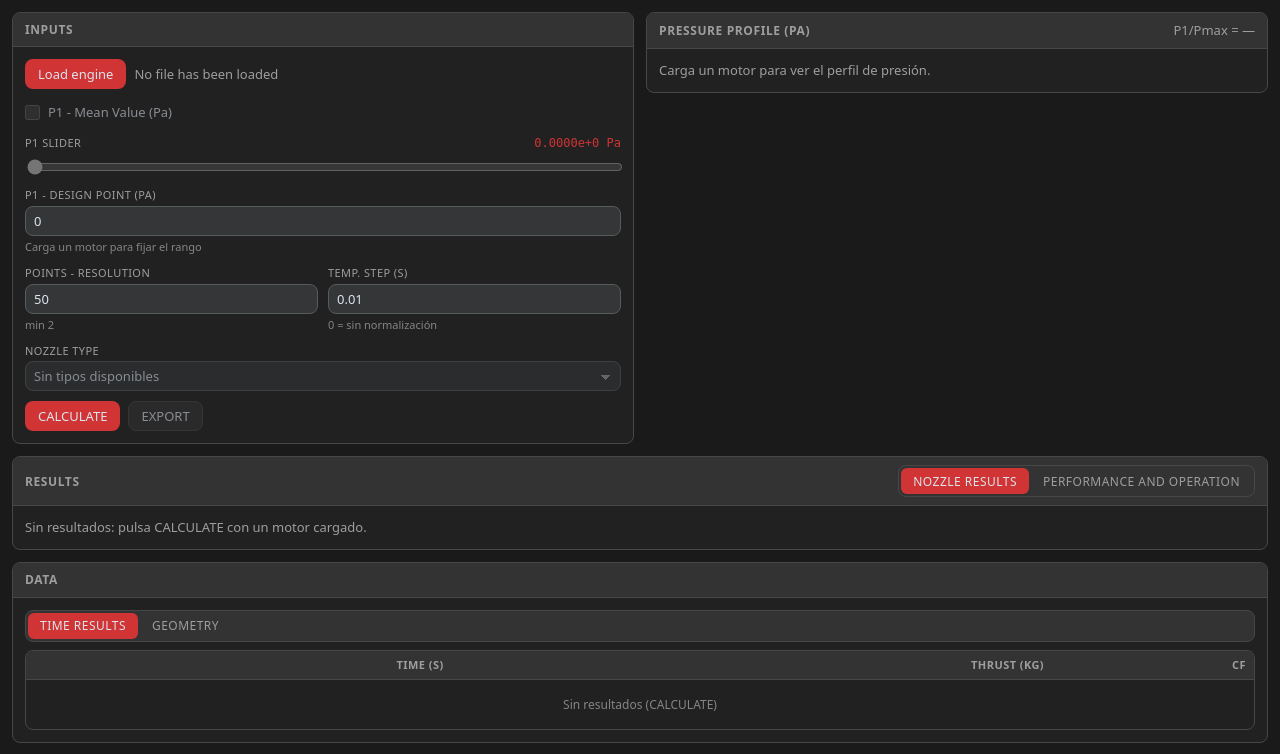
Test case: NozzleTab (T2) › nozzle.op_point (debounce) actualiza ratios y régimen (T2-7)
Click the button "Load engine". click: x=76, y=74
box: top-left (25, 59), bottom-right (126, 89)
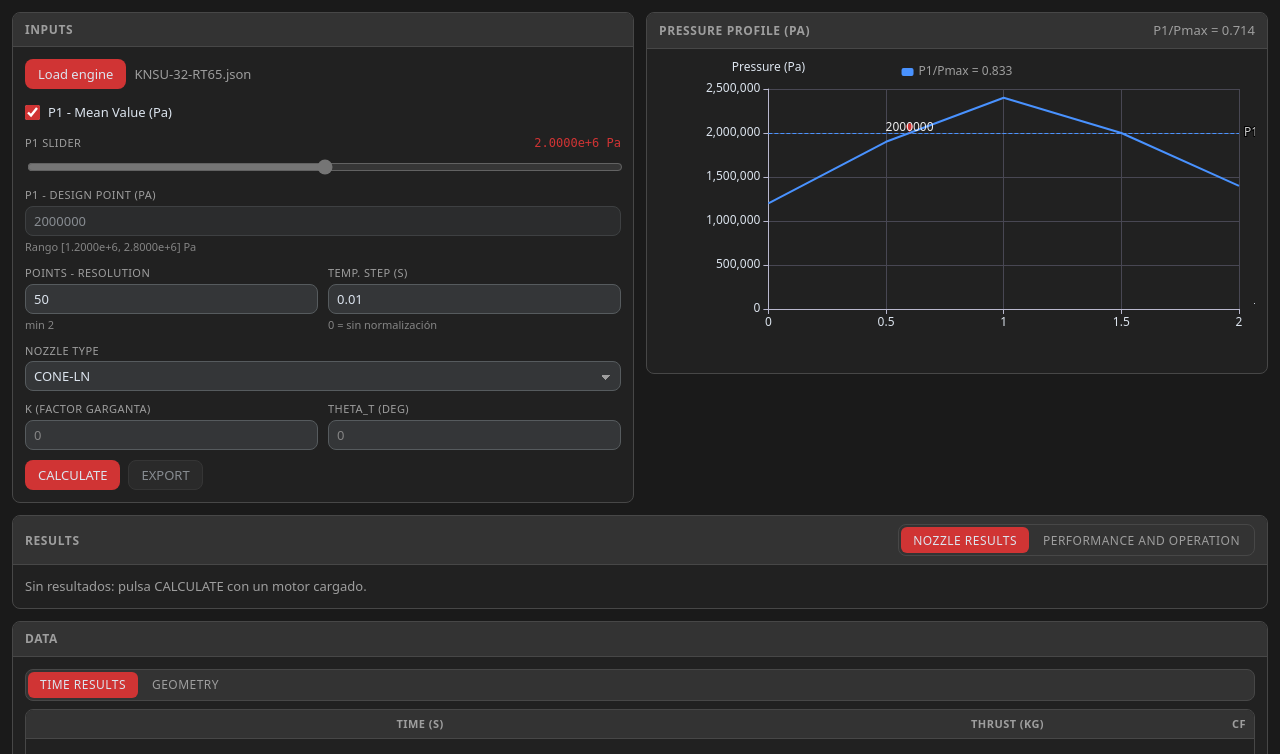
Check: the text with test id "nozzle-engine-label" reads "KNSU-32-RT65.json", box top-left (134, 65), bottom-right (251, 83)
Type "0.25" into the field labelled "K (Factor Garganta)". click: x=172, y=435
box: top-left (25, 420), bottom-right (318, 450)
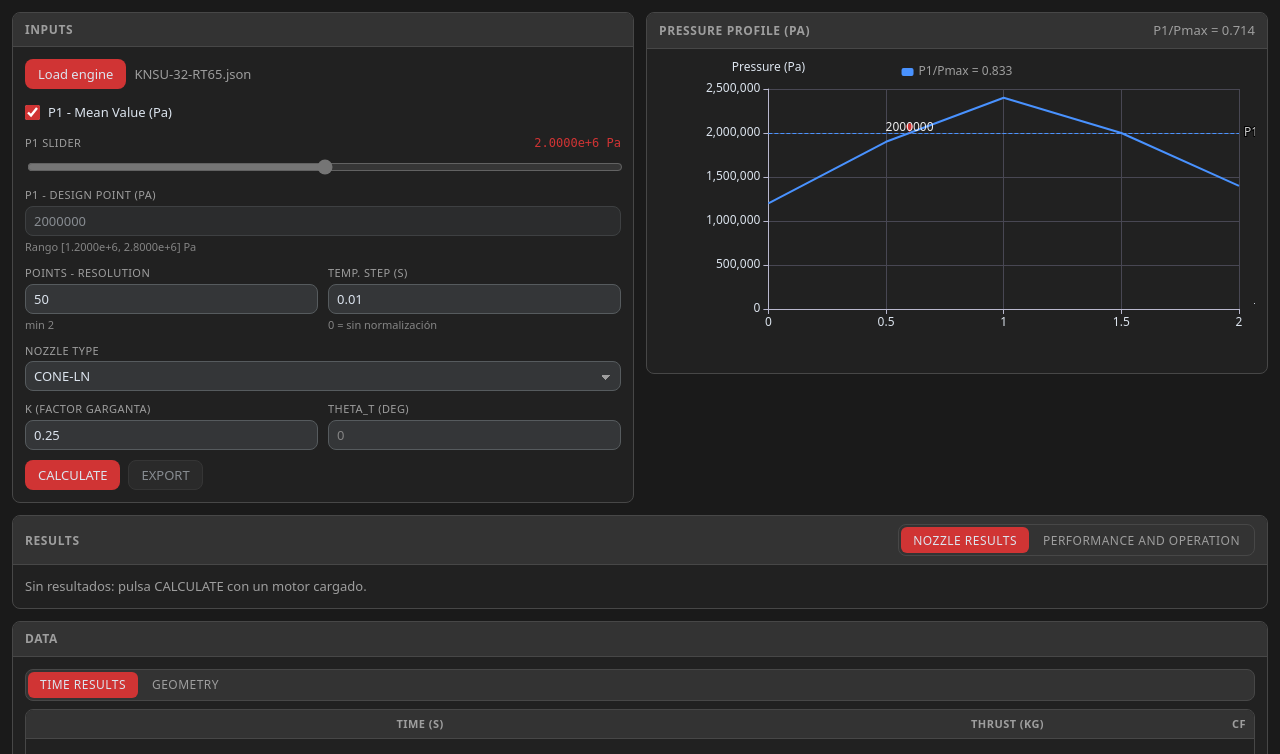
Type "15" into the field labelled "theta_t (deg)". click: x=474, y=435
box: top-left (328, 420), bottom-right (621, 450)
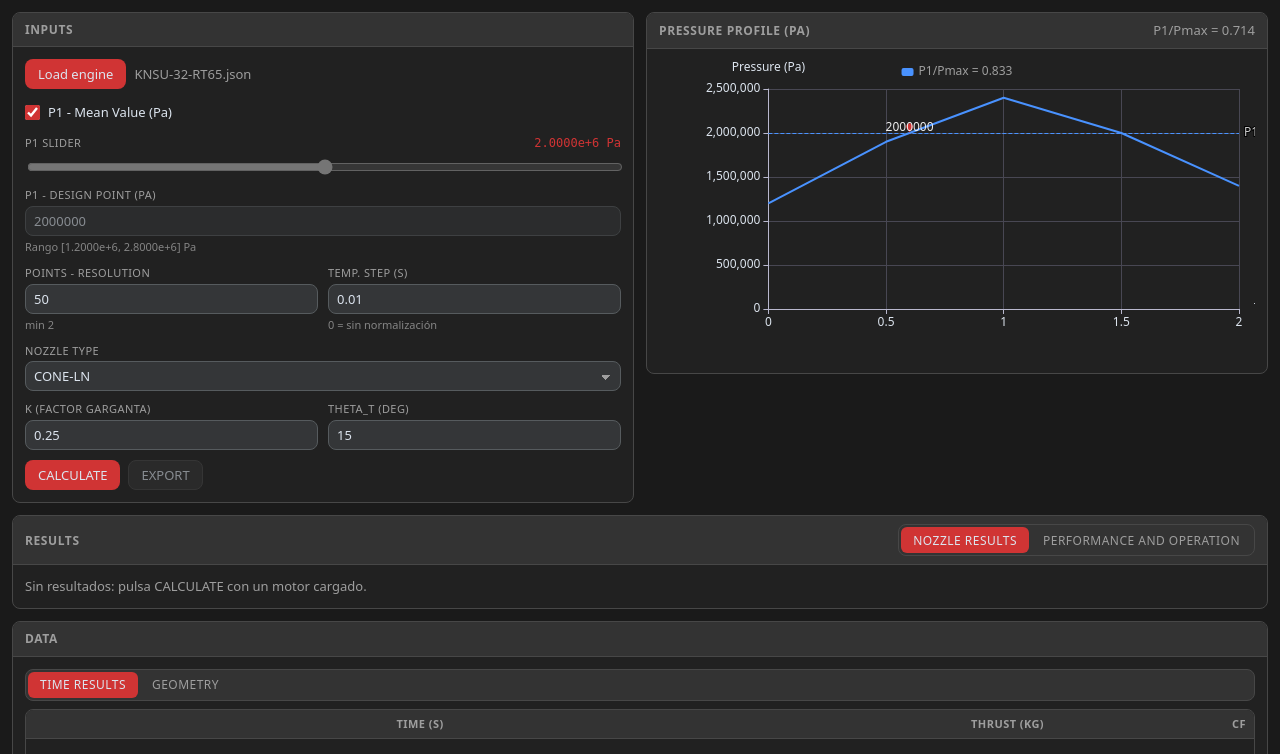
Click the tab "PERFORMANCE AND OPERATION". click: x=1142, y=540
box: top-left (1031, 527), bottom-right (1252, 553)
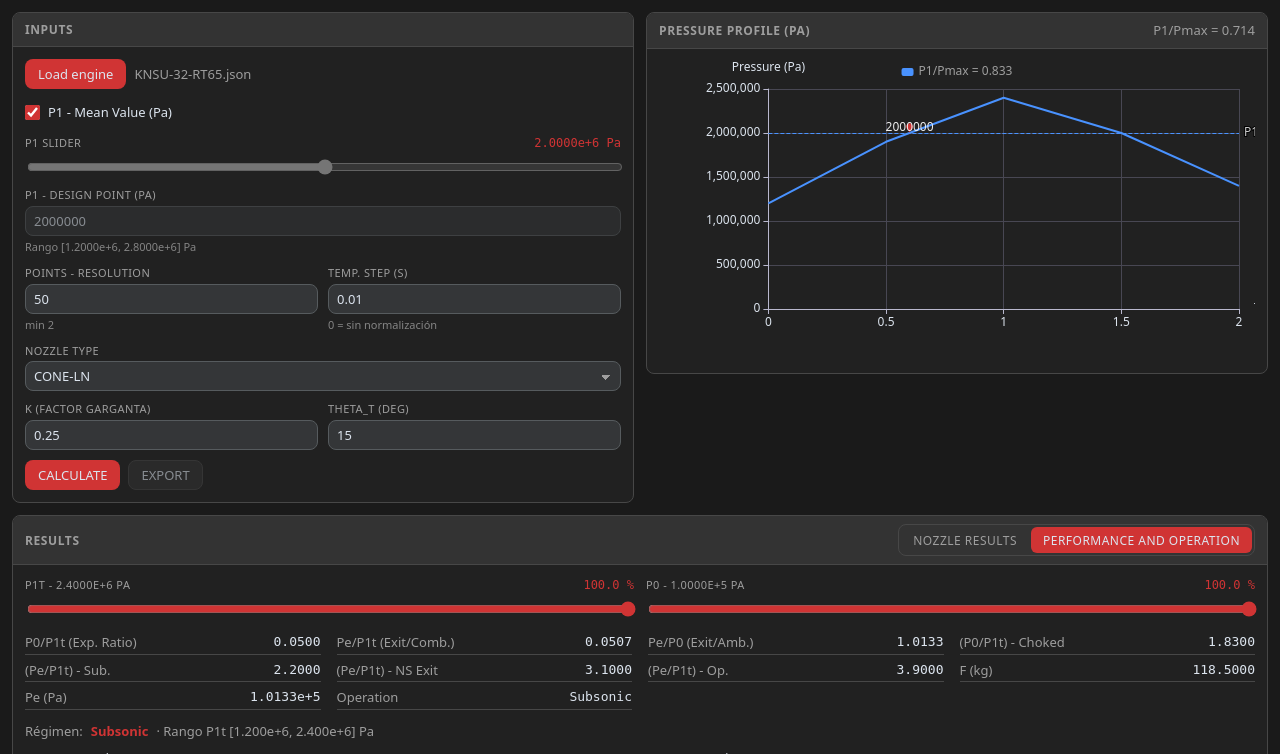
Check: the text with test id "nozzle-regime" reads "Subsonic", box top-left (91, 722), bottom-right (148, 740)
Set the slider labelled "P1t - 2.4000e+6 Pa" to "0.5". click: x=332, y=609
box: top-left (27, 601), bottom-right (636, 617)
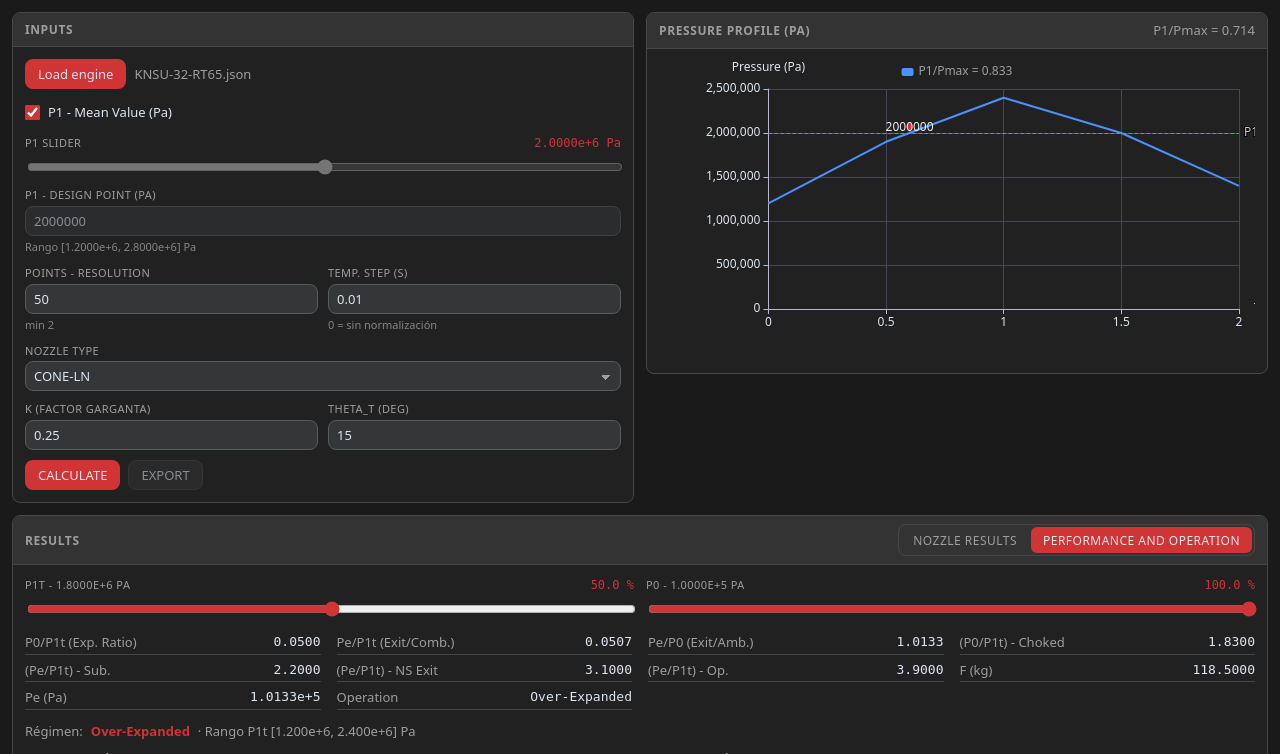
Check: the text with test id "nozzle-regime" reads "Over-Expanded", box top-left (91, 722), bottom-right (190, 740)
